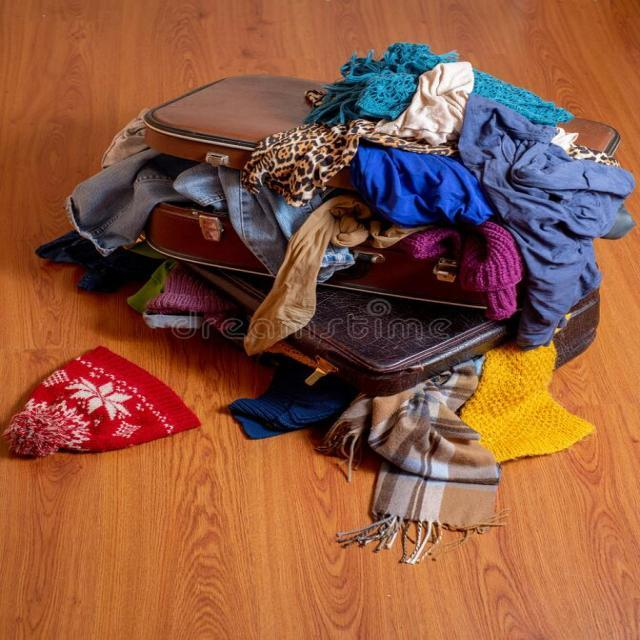clothes: (70, 64, 601, 552)
